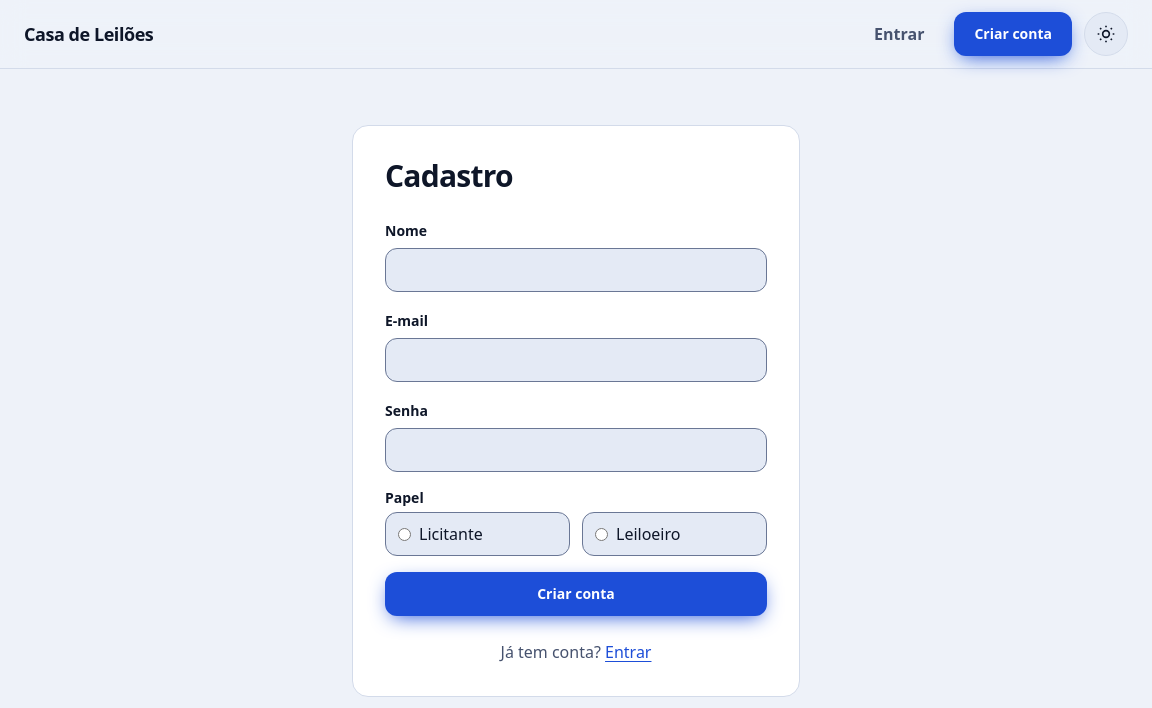
Scenario: /cadastro › EMAIL_EM_USO mostra a mensagem do mapa
Type "Helena" into the field labelled "Nome".
click(576, 270); type("Helena")  # box [385, 248, 767, 292]
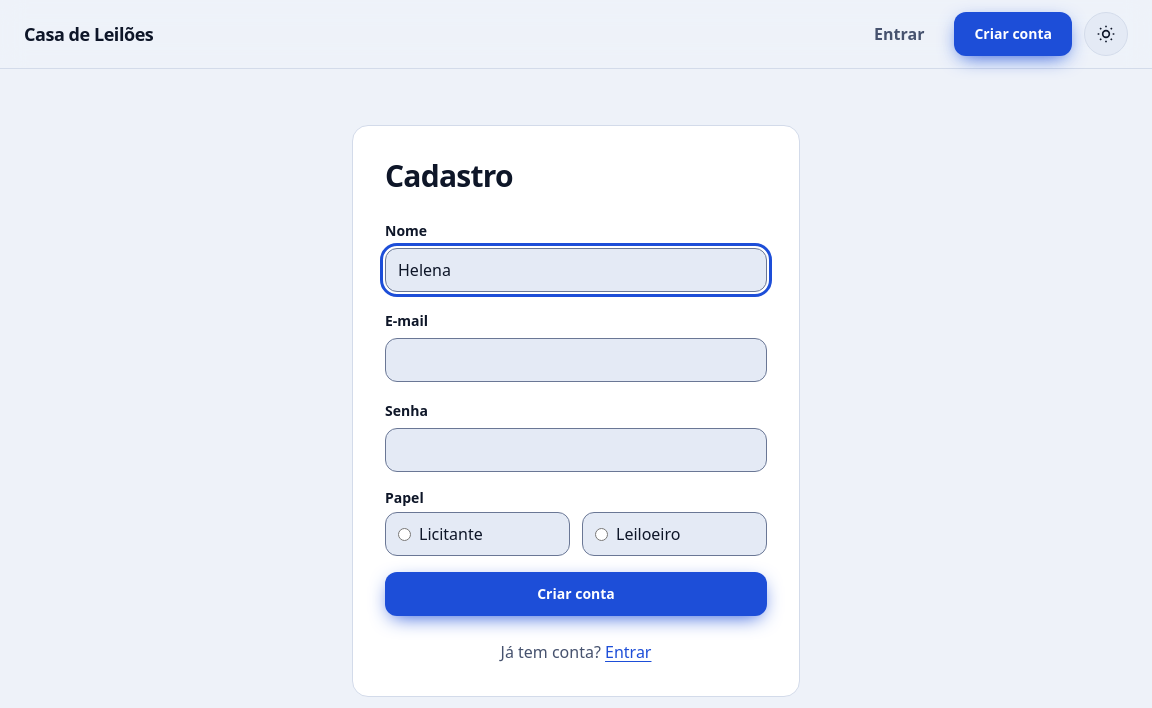
Type "helena@exemplo.com" into the field labelled "E-mail".
click(576, 360); type("helena@exemplo.com")  # box [385, 338, 767, 382]
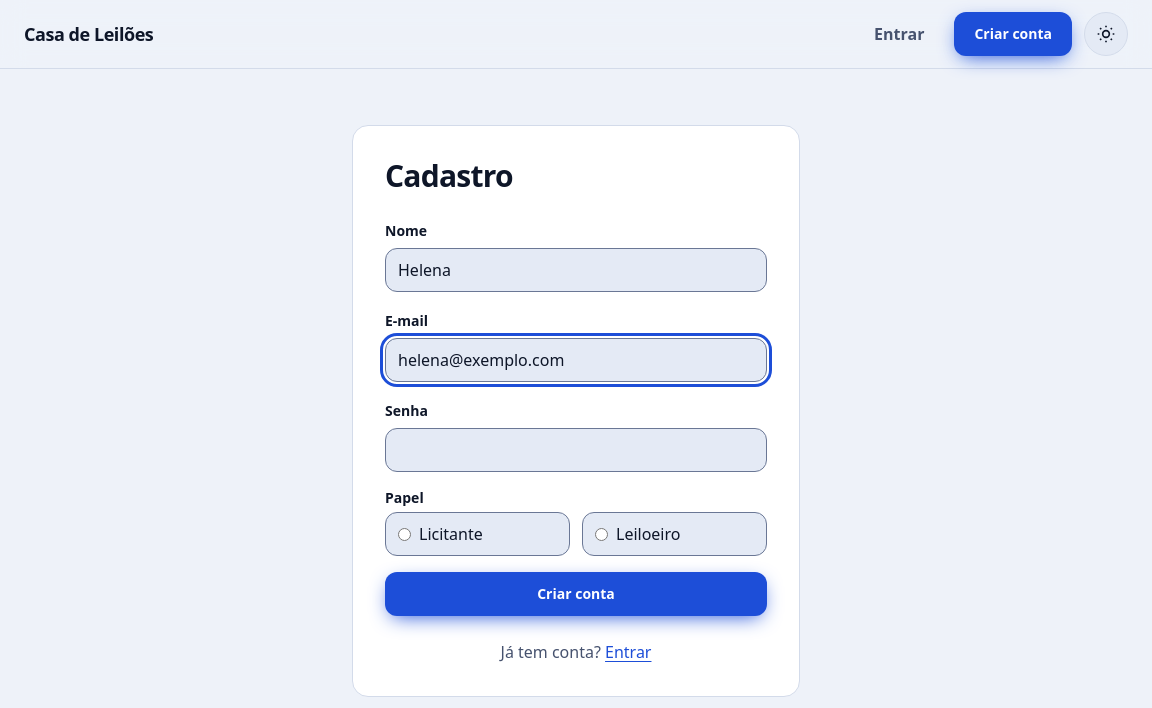
Type "senha-com-10-chars" into the password field labelled "Senha".
click(576, 450); type("senha-com-10-chars")  # box [385, 428, 767, 472]
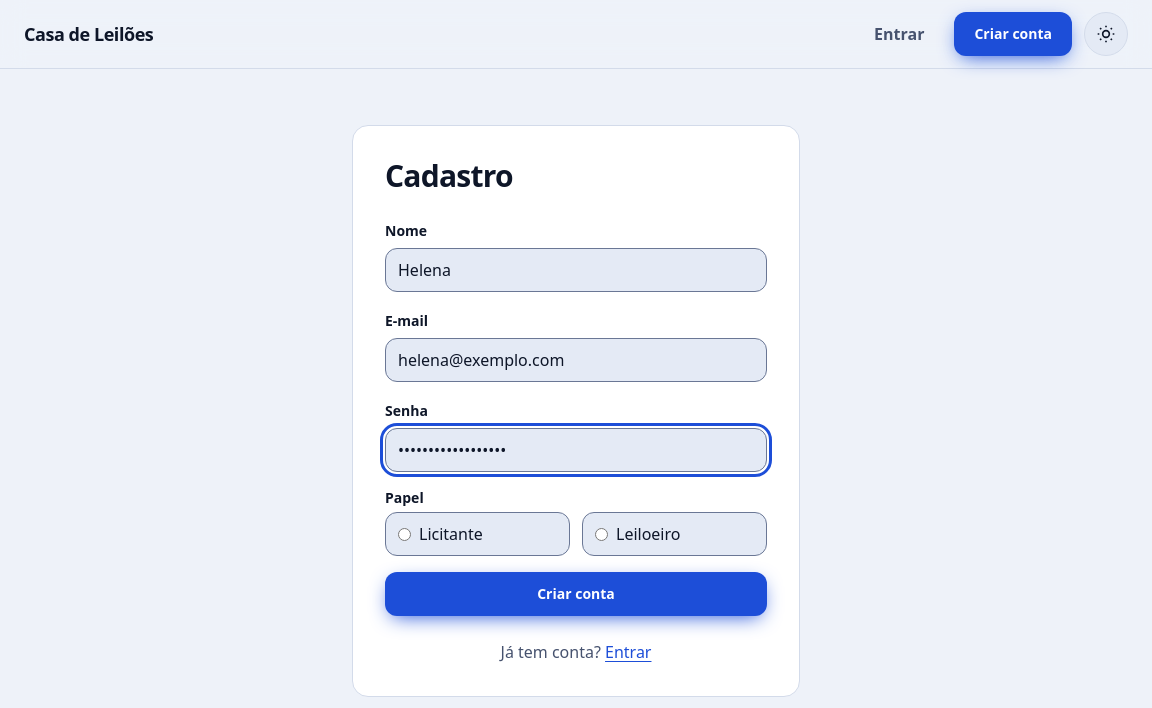
Click the radio button labelled "Leiloeiro".
click(602, 534)  # box [595, 528, 608, 540]
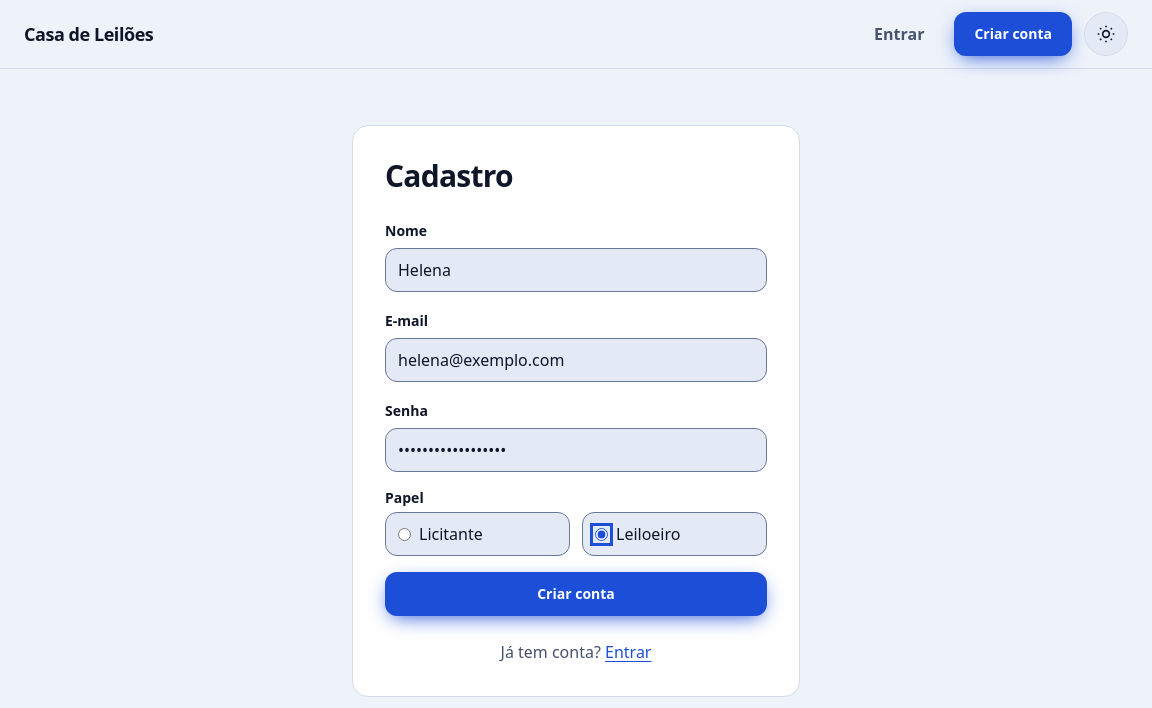
Click the button "Criar conta".
click(576, 594)  # box [385, 572, 767, 616]
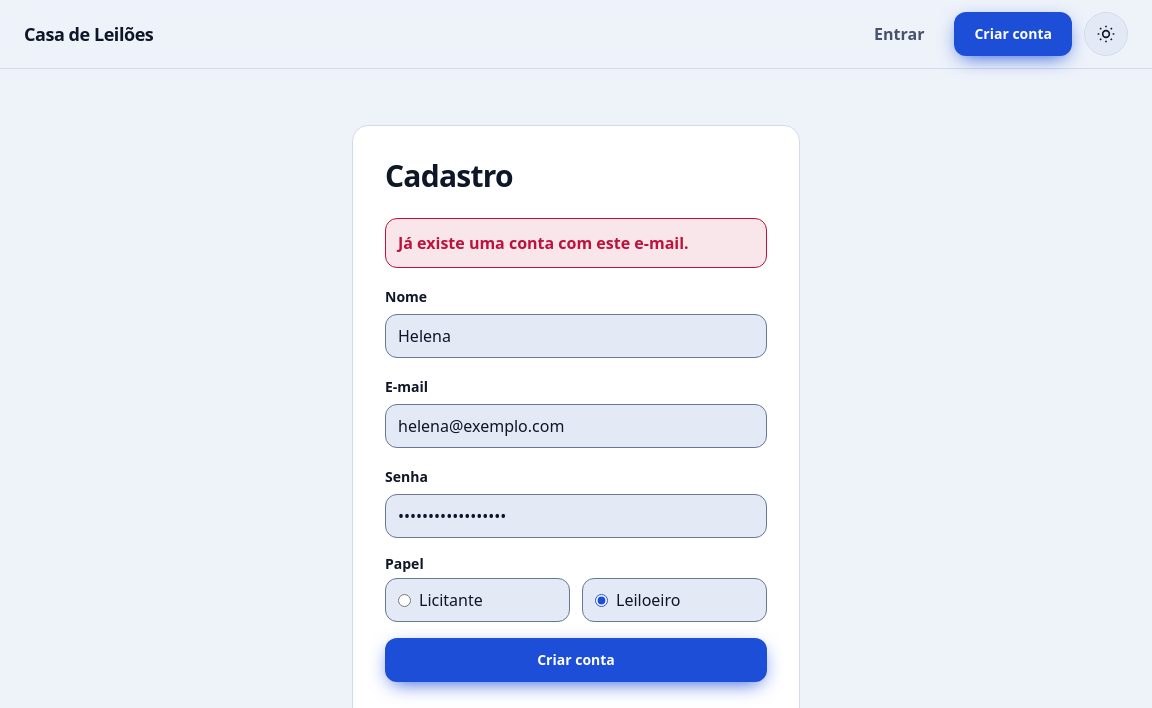
Expected: the message reads "Já existe uma conta com este e-mail.", [398, 232, 689, 254]
